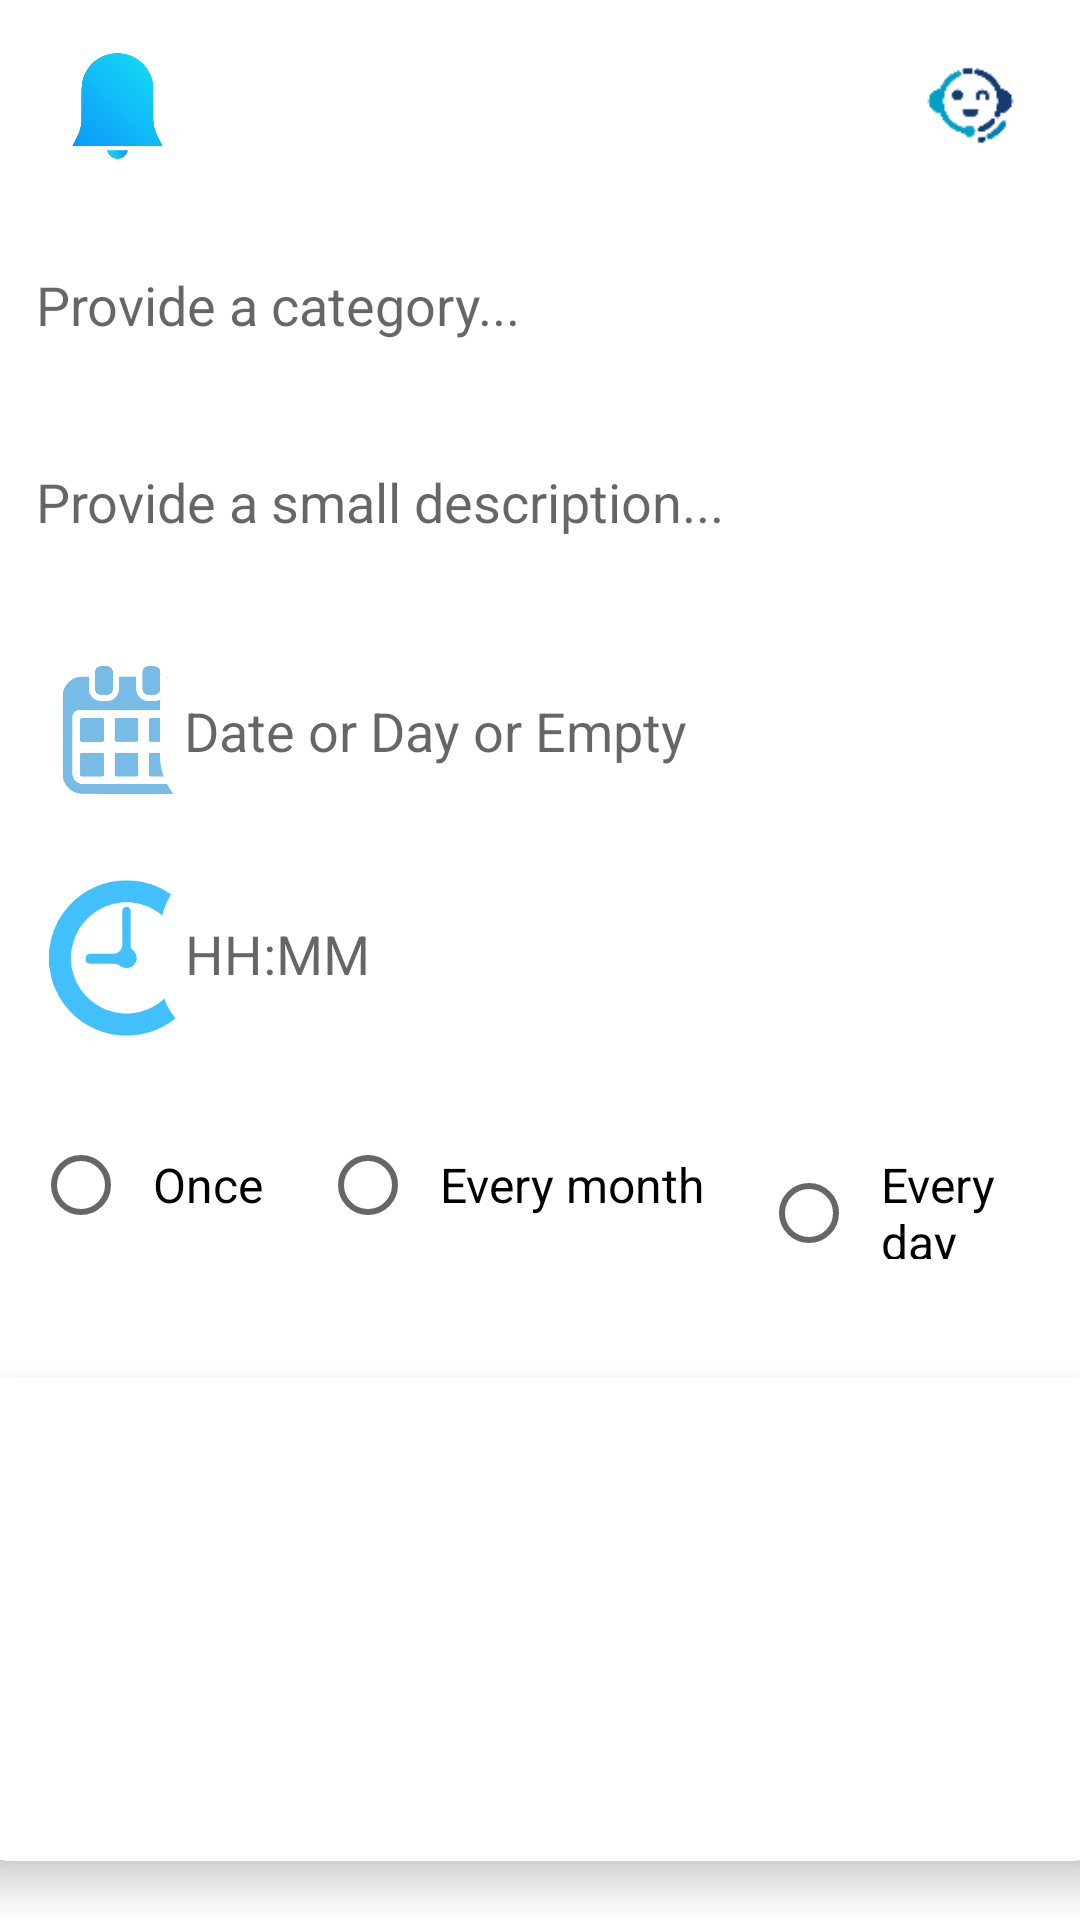

Icon bounding boxes for this 1080px×1920px phone screenshot, format [x1=x1, y1=y1, x2=x2, y2=y2]:
bell: [x1=72, y1=53, x2=163, y2=159]
clock: [x1=49, y1=880, x2=219, y2=1036]
helpbotresized: [x1=927, y1=68, x2=1014, y2=143]
